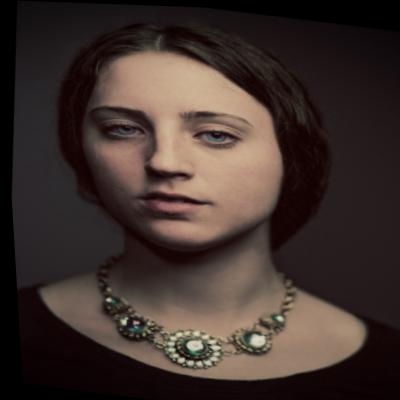netural: (61, 39, 295, 257)
